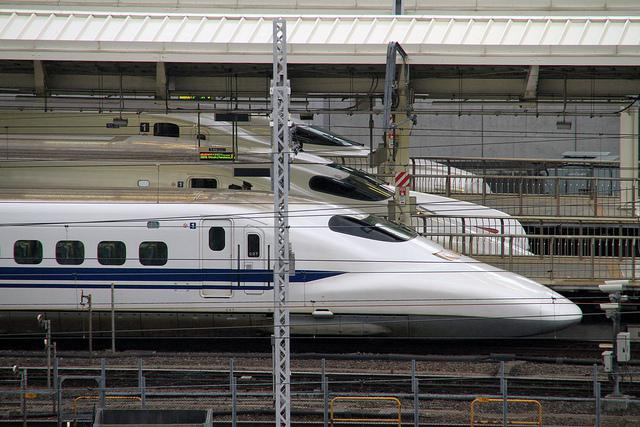Train: (1, 184, 589, 340), (0, 113, 535, 259), (139, 112, 496, 194)
